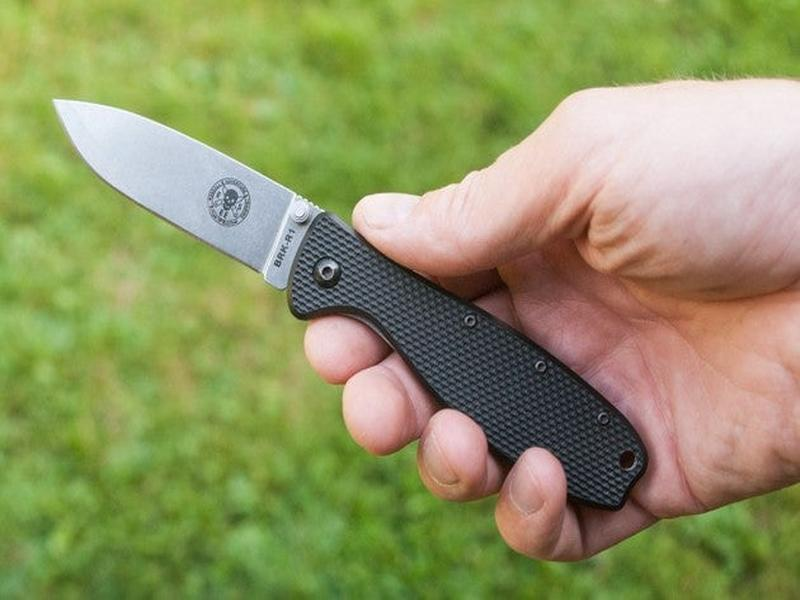KNIFE: (47, 90, 656, 517)
